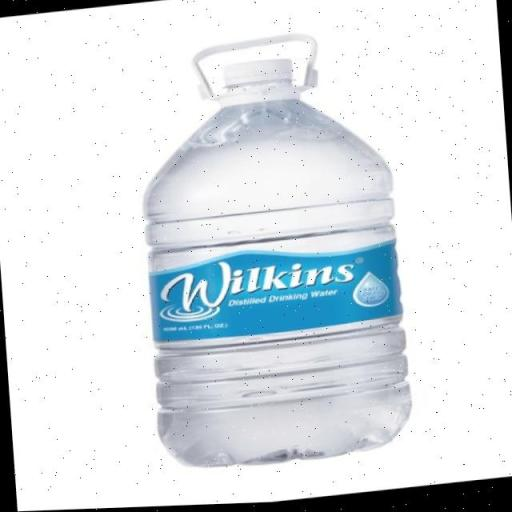plastic: (123, 22, 418, 484)
